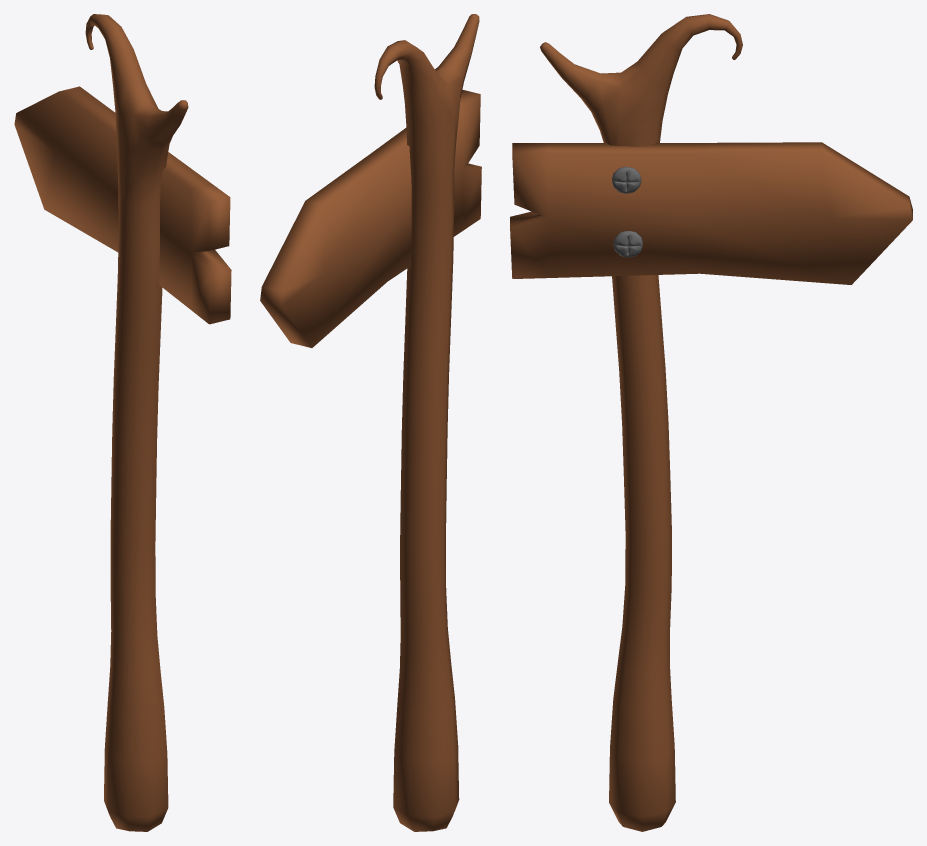
File: Sign.fbx
3 renders of one model, left to right at view 1: azimuth 30°, elevation 25°; view 2: azimuth 150°, elevation 25°; view 3: azimuth 270°, elevation 25°, orthographic. The views are drawn at different scales.
Visible parts, largest first — view 1: SignTree, Sign; view 2: SignTree, Sign; view 3: Sign, SignTree, SignNails.
Boxes of the visible parts, x1,y1,x2,y2 form: SignTree: (85,14,188,831); Sign: (14,86,231,324); SignTree: (374,14,479,831); Sign: (260,89,481,347); Sign: (510,142,912,284); SignTree: (540,14,742,831); SignNails: (612,167,642,257).
Size of the model in its own units: 0.1834 by 2.08 by 0.9341.
